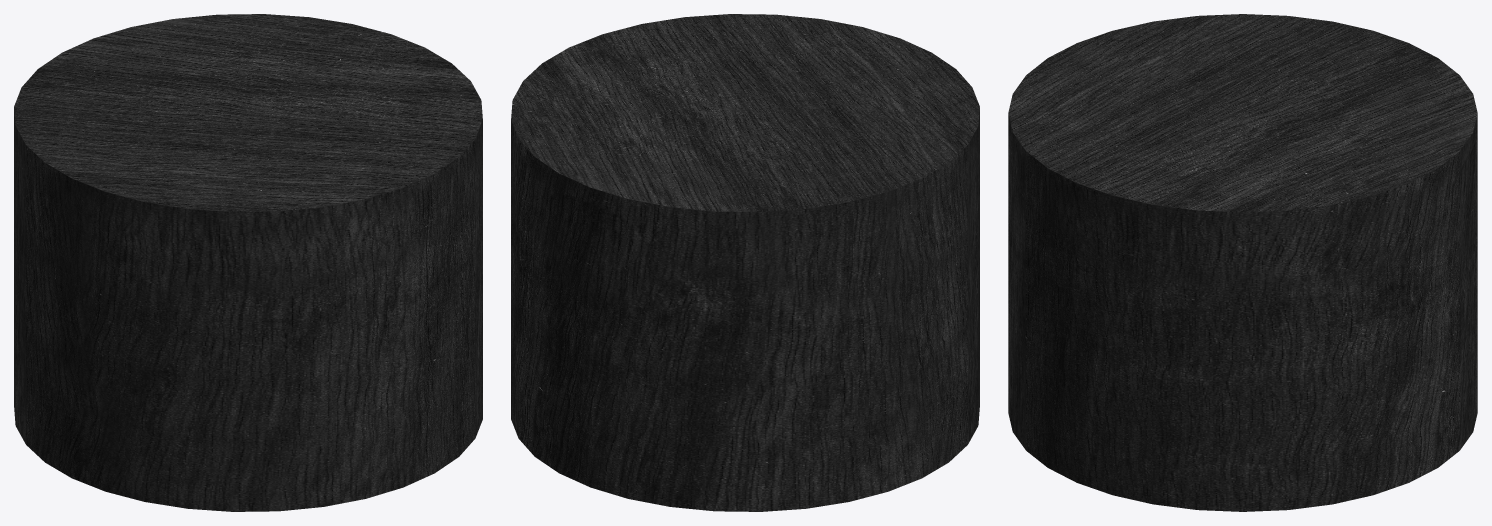
The model's file is pawn_b.obj.
3 renders of one model, left to right at view 1: azimuth 30°, elevation 25°; view 2: azimuth 150°, elevation 25°; view 3: azimuth 270°, elevation 25°, orthographic.
Visible parts, largest first — view 1: pawn; view 2: pawn; view 3: pawn.
Part boxes in pixels (box(x1,y1,x2,y2)): pawn: box(14, 14, 482, 511); pawn: box(511, 14, 979, 511); pawn: box(1008, 14, 1477, 511).
Bounding box in the file's own units: 1.3 × 0.9148 × 1.3.
